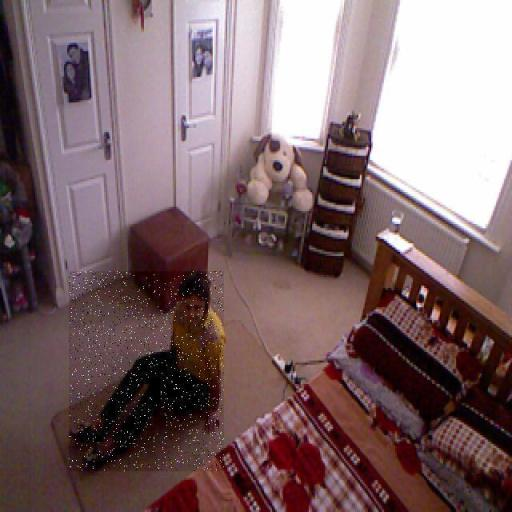Fall: (69, 271, 224, 471)
